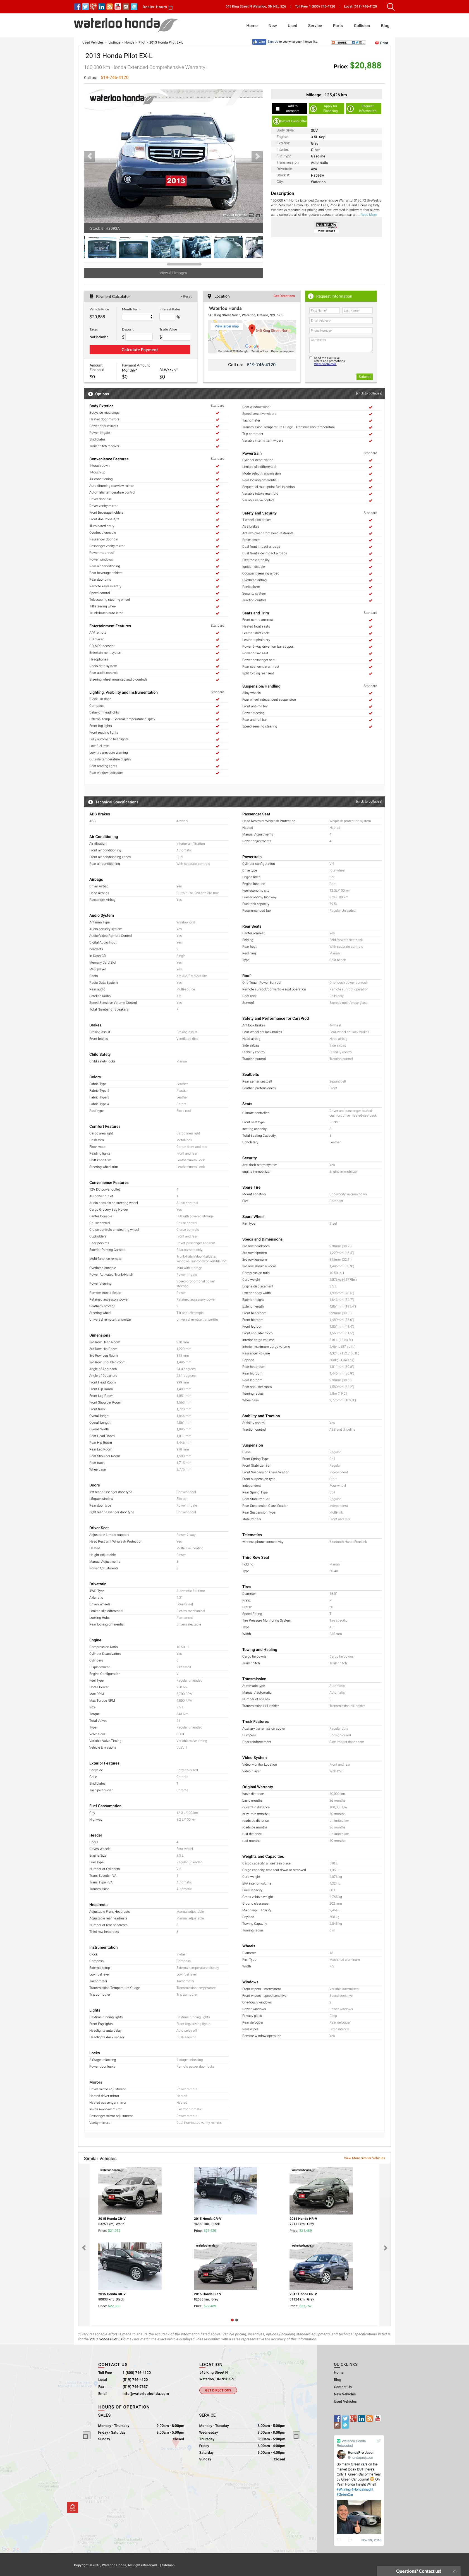car: (255, 153, 260, 161)
